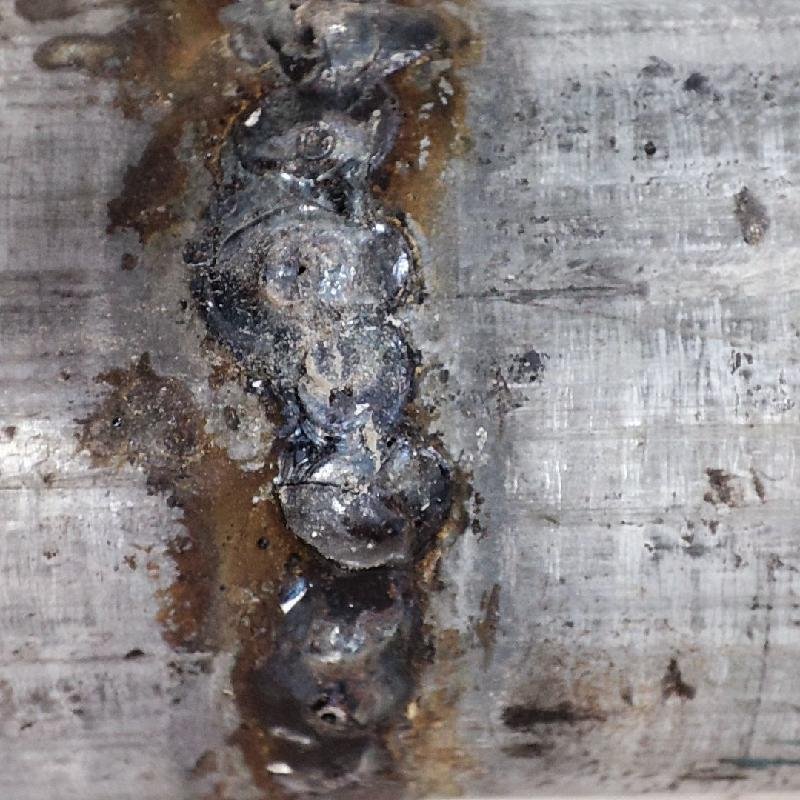Not_fully_soldered: (222, 0, 438, 558)
Surface_pores: (279, 17, 337, 70), (266, 248, 328, 296)
